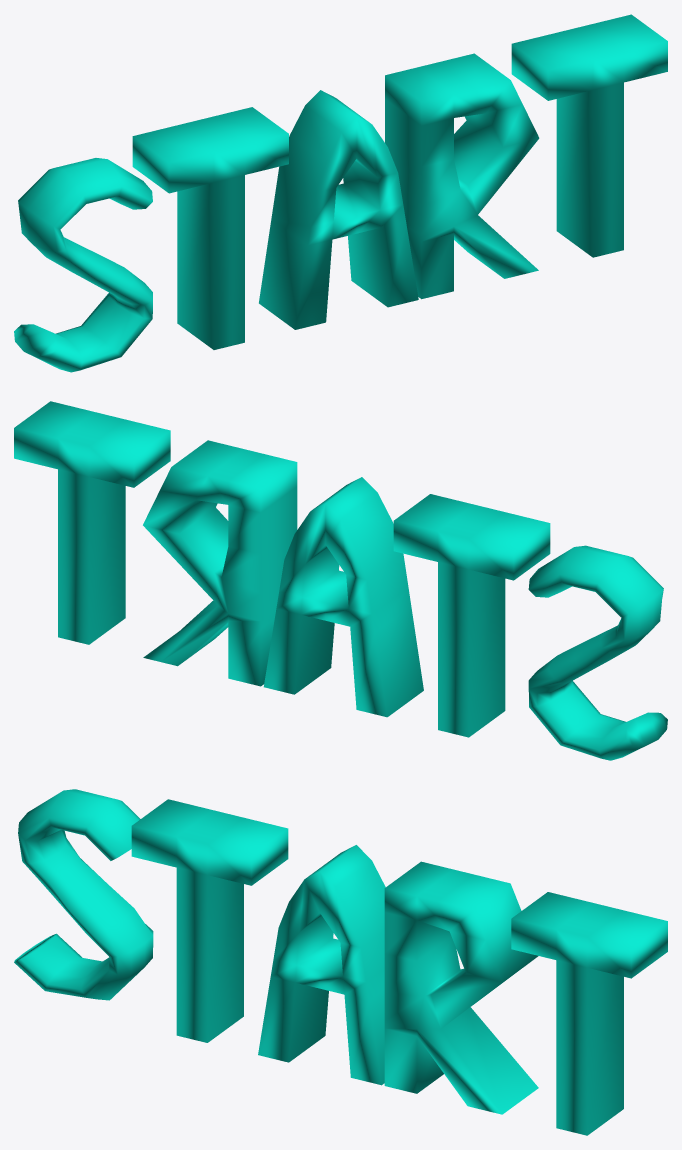
File: Start.fbx
3 views of the same model, one above another, from view 1: azimuth 30°, elevation 25°; view 2: azimuth 150°, elevation 25°; view 3: azimuth 330°, elevation 25° (orthographic).
Visible parts, largest first — view 1: pCube18, pCube1, pCube8, pCube26, pTorus7; view 2: pCube1, pCube18, pCube8, pCube26, pTorus7; view 3: pCube18, pCube1, pCube8, pCube26, pTorus7.
Part boxes in pixels (x1,y1,x2,y2): pCube18: [385, 53, 539, 299]; pCube1: [259, 90, 418, 329]; pCube8: [132, 107, 288, 349]; pCube26: [511, 14, 667, 257]; pTorus7: [14, 158, 152, 372]; pCube1: [263, 477, 423, 717]; pCube18: [143, 440, 297, 686]; pCube8: [393, 494, 550, 737]; pCube26: [14, 401, 170, 644]; pTorus7: [528, 545, 667, 760]; pCube18: [384, 861, 538, 1114]; pCube1: [258, 845, 385, 1085]; pCube8: [131, 799, 288, 1042]; pCube26: [511, 892, 667, 1135]; pTorus7: [14, 789, 153, 1000].
Size of the model in its own units: 9.9 by 3 by 1.01.
